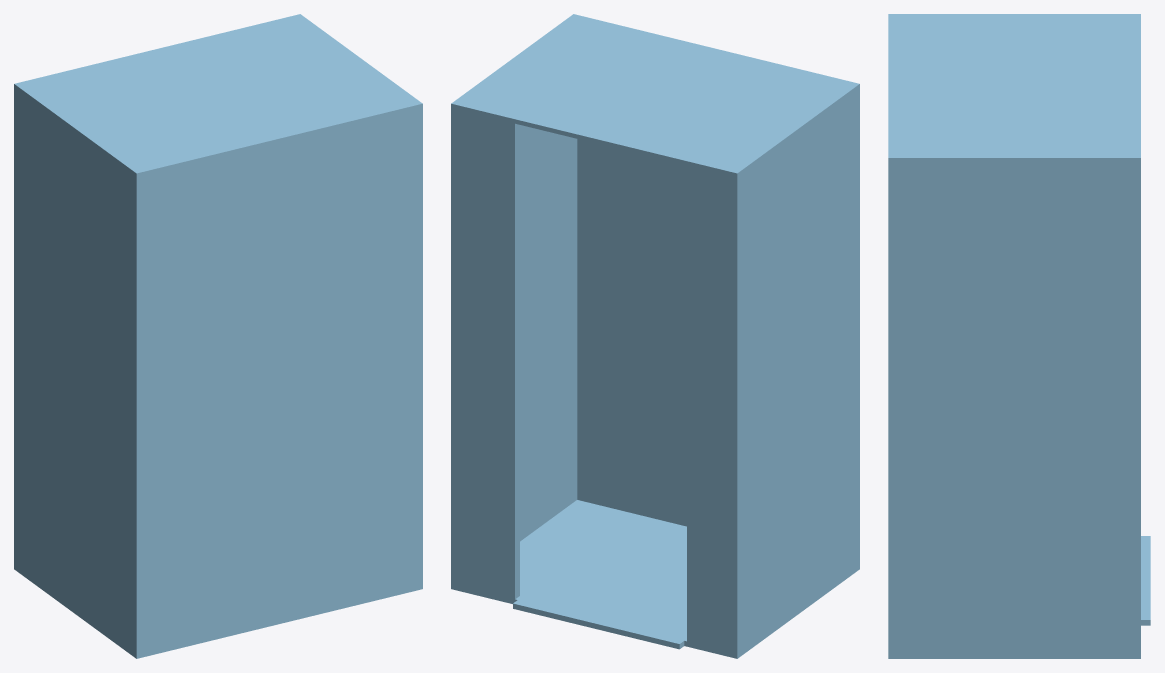
Rendered from elevator_car.dae.
The picture shows the model from 3 angles, left to right: view 1: azimuth 30°, elevation 25°; view 2: azimuth 150°, elevation 25°; view 3: azimuth 270°, elevation 25°; orthographic projection. The views are drawn at different scales.
Parts seen in each view (by area): view 1: Car; view 2: Car; view 3: Car.
Part boxes in pixels (box(x1,y1,x2,y2)): Car: box(14, 14, 422, 658); Car: box(451, 14, 859, 658); Car: box(888, 14, 1150, 658).
Bounding box in the file's own units: 1.7 × 1.31 × 2.76.
